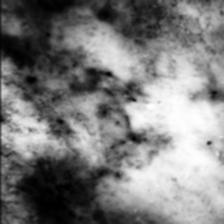Potentially Malignant Skin Tumors: (4, 0, 152, 224)
